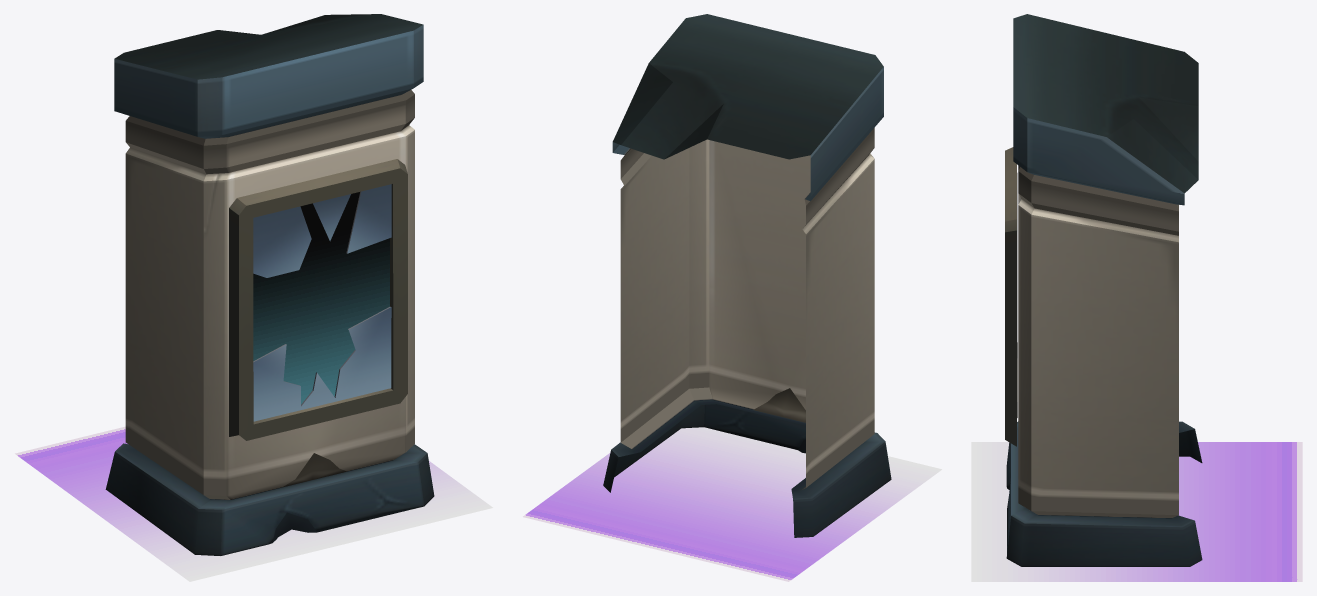
File: [fx]billboard1.fbx
The picture shows the model from 3 angles, left to right: view 1: azimuth 30°, elevation 25°; view 2: azimuth 150°, elevation 25°; view 3: azimuth 270°, elevation 25°; orthographic projection. The views are drawn at different scales.
Parts seen in each view (by area): view 1: wall_billboard, fx_billboard_glow, shadow; view 2: wall_billboard, shadow; view 3: wall_billboard, shadow.
Boxes of the visible parts, left/top/right/bottom form: wall_billboard: left=105, top=14, right=434, bottom=555; fx_billboard_glow: left=253, top=192, right=389, bottom=404; shadow: left=15, top=426, right=492, bottom=581; wall_billboard: left=603, top=14, right=891, bottom=537; shadow: left=523, top=427, right=941, bottom=581; wall_billboard: left=1005, top=14, right=1202, bottom=566; shadow: left=971, top=442, right=1302, bottom=581.
Size of the model in its own units: 2.55 by 3.83 by 2.55.
